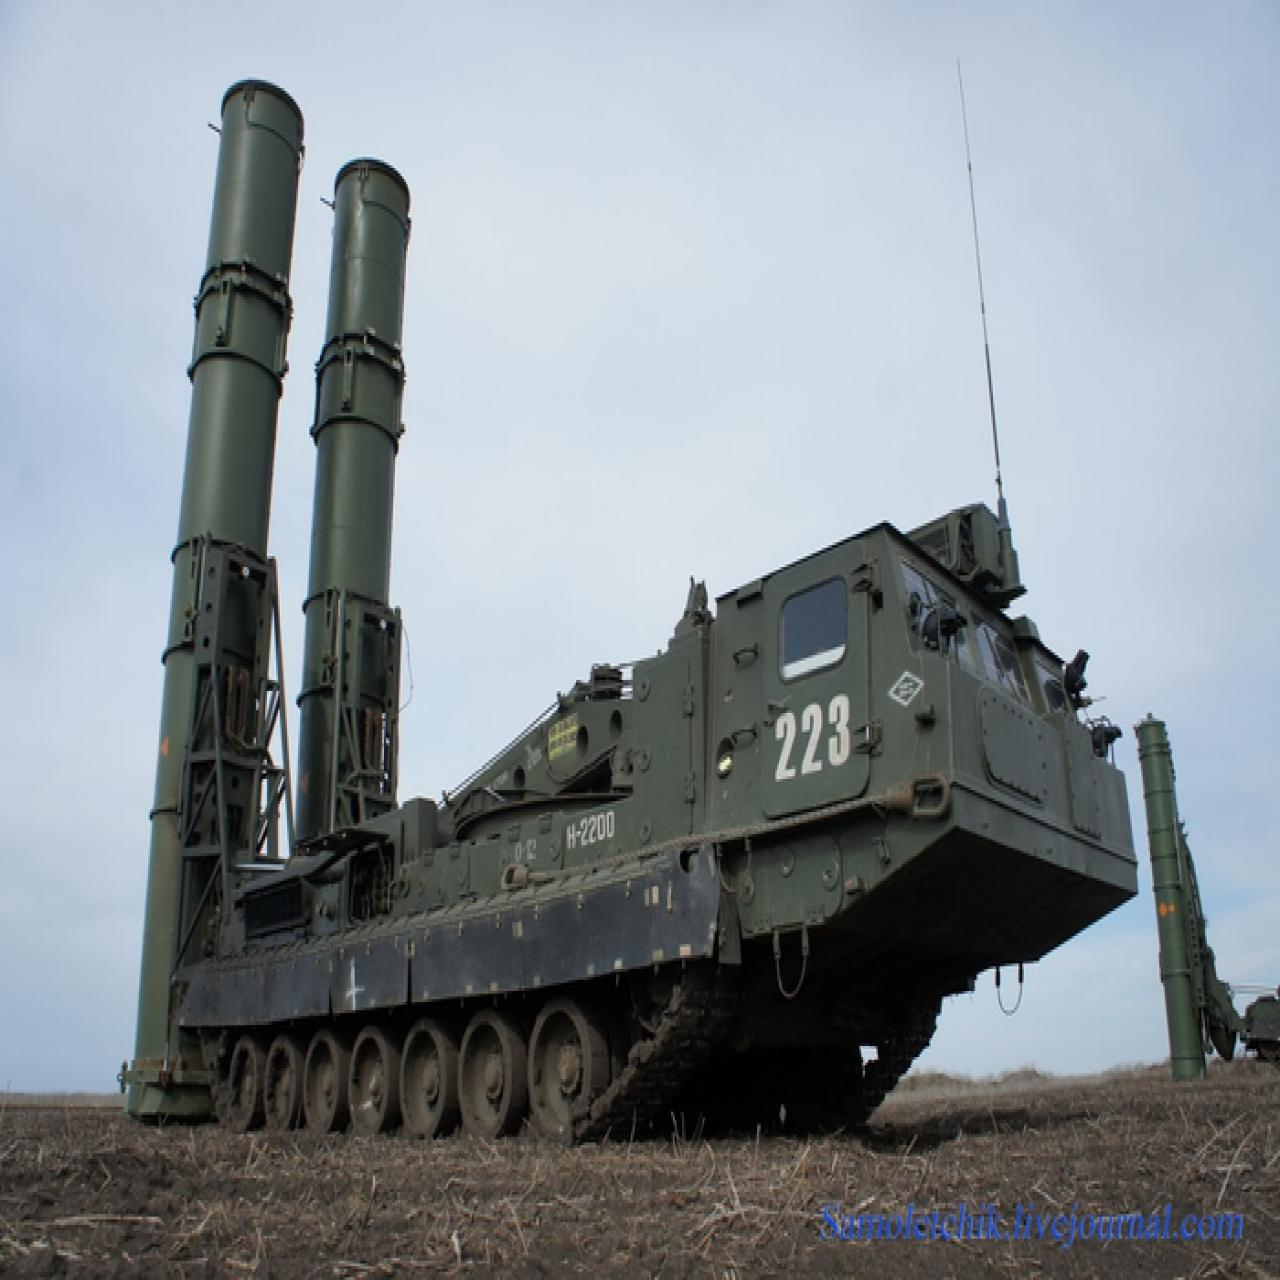MIL_Veh: (124, 73, 1137, 1146)
